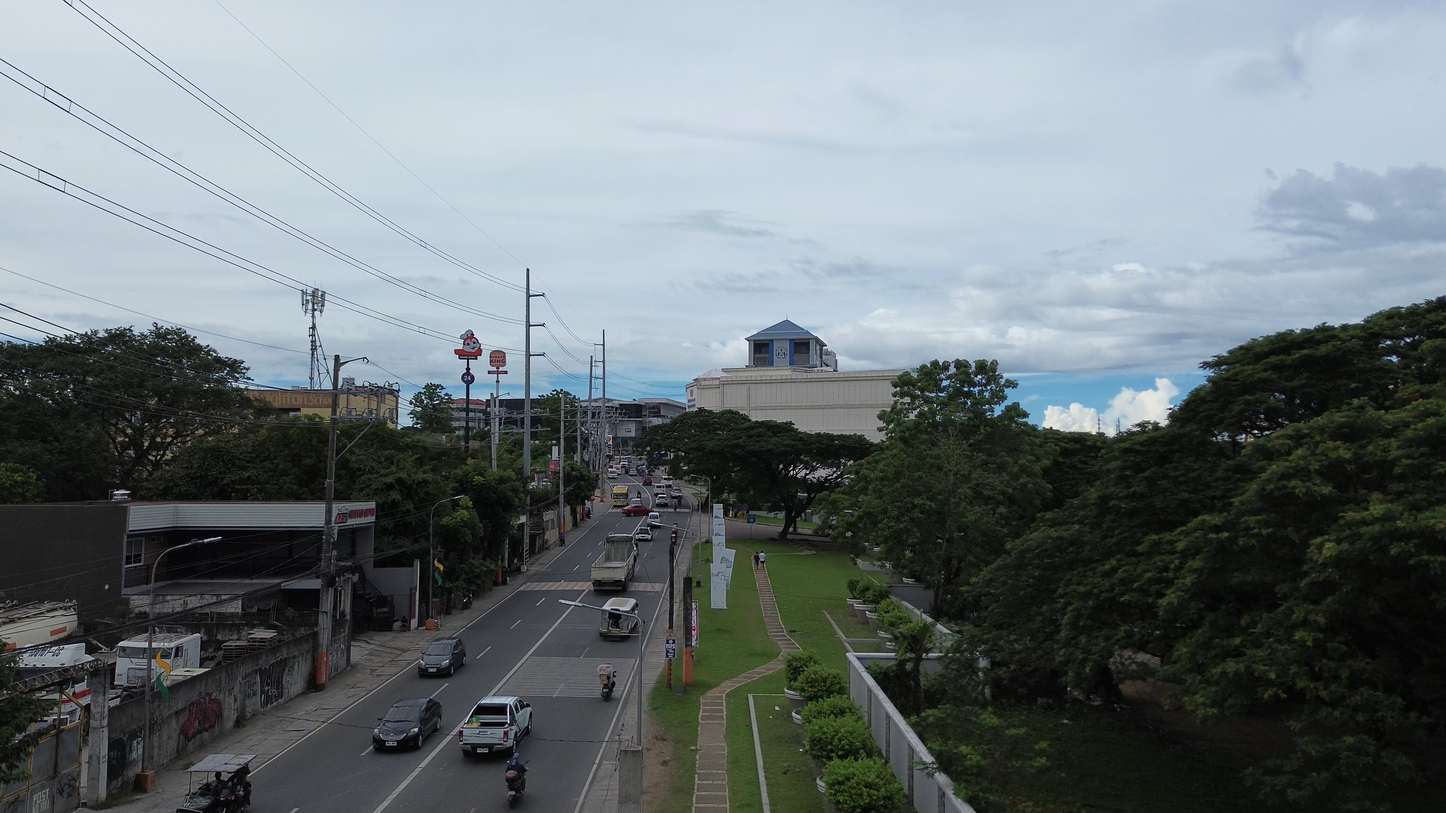car: (633, 523, 651, 545), (622, 505, 651, 516), (647, 511, 662, 527), (654, 493, 670, 507), (642, 475, 652, 486), (671, 489, 682, 499)
motorcycle: (505, 768, 525, 807), (599, 664, 616, 702), (461, 592, 471, 610)
truck: (591, 534, 636, 591)
vehicle: (175, 754, 255, 813), (114, 633, 201, 685), (458, 696, 531, 754), (0, 601, 79, 649), (372, 697, 441, 749), (41, 672, 106, 721), (418, 637, 465, 676), (599, 597, 640, 640), (505, 765, 525, 807), (598, 663, 615, 701), (621, 502, 651, 516), (631, 523, 651, 542), (612, 485, 629, 507), (654, 492, 670, 507), (670, 487, 682, 500)
